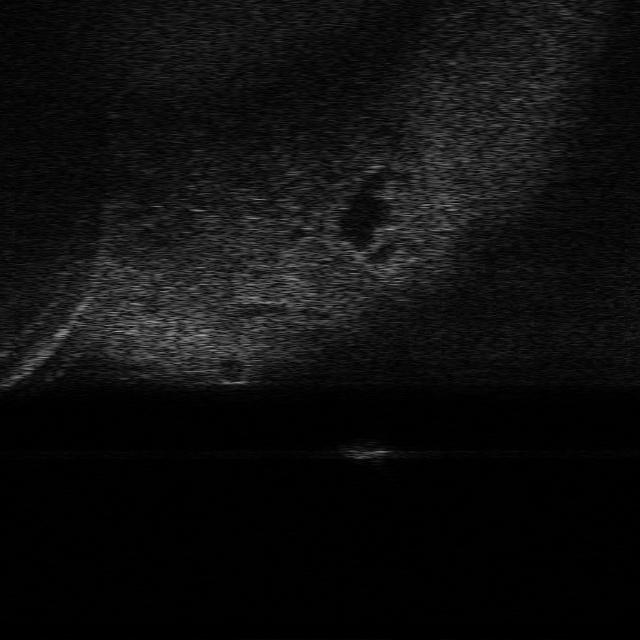cube: (334, 435, 390, 458)
